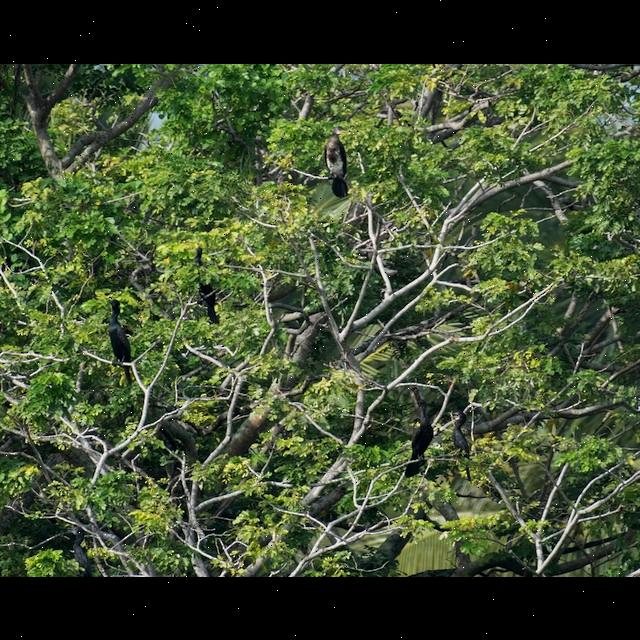cormorant: (101, 291, 141, 389), (408, 396, 440, 486), (318, 124, 348, 206), (448, 406, 477, 484)
